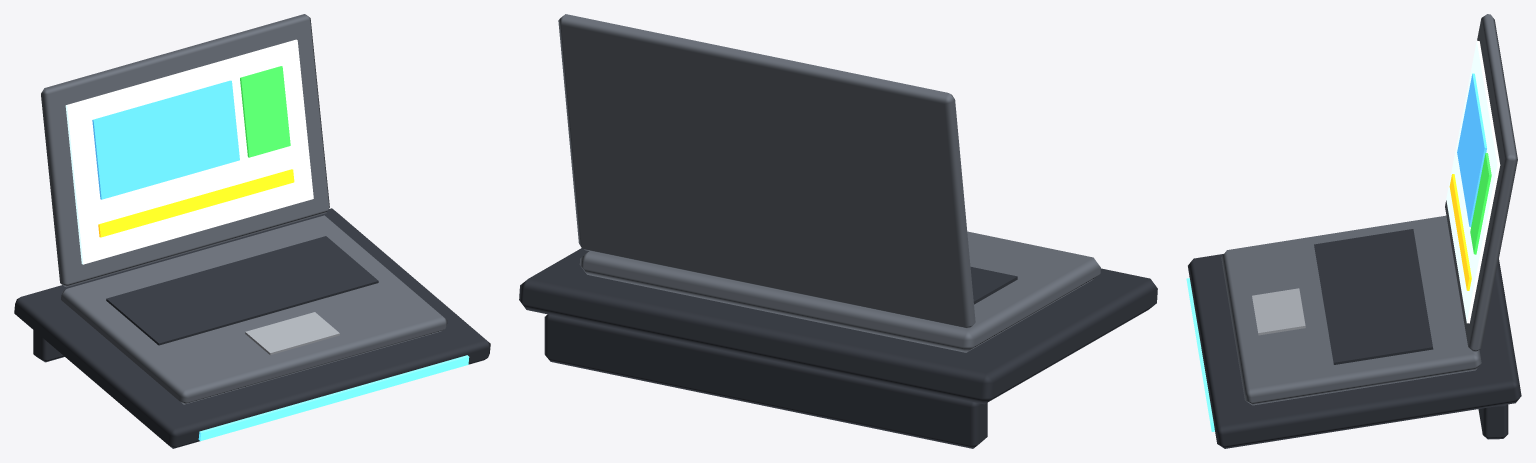
Rendered from station_processing_ausstattung_2_1.glb.
3 renders of one model, left to right at view 1: azimuth 30°, elevation 25°; view 2: azimuth 150°, elevation 25°; view 3: azimuth 270°, elevation 25°, orthographic. The views are drawn at different scales.
Parts seen in each view (by area): view 1: station_processing_ausstattung_2_1; view 2: station_processing_ausstattung_2_1; view 3: station_processing_ausstattung_2_1.
Part boxes in pixels (left/top/right/bottom): station_processing_ausstattung_2_1: left=14, top=14, right=490, bottom=448; station_processing_ausstattung_2_1: left=519, top=14, right=1157, bottom=448; station_processing_ausstattung_2_1: left=1186, top=14, right=1521, bottom=448.
Size of the model in its own units: 0.5027 by 0.3577 by 0.3915.
